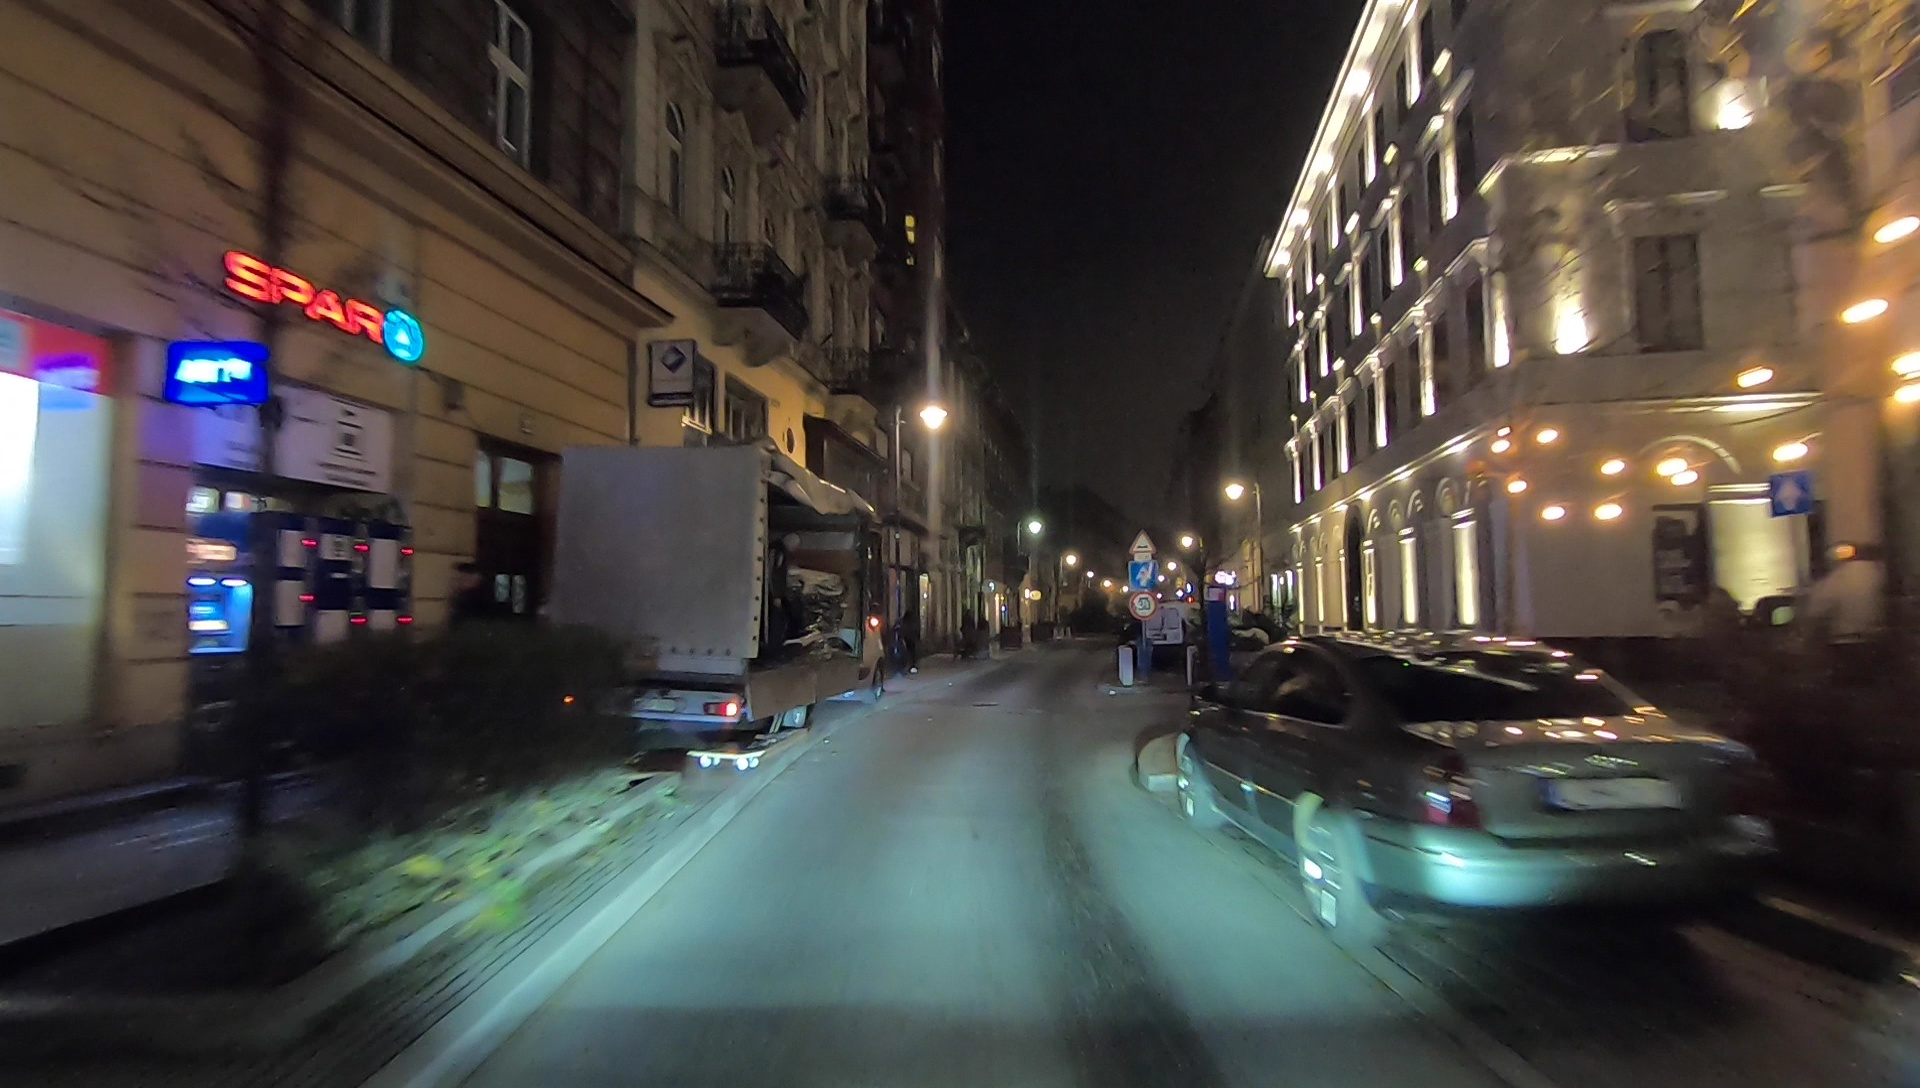person: (443, 556, 497, 715), (771, 523, 799, 654), (895, 609, 920, 670)
